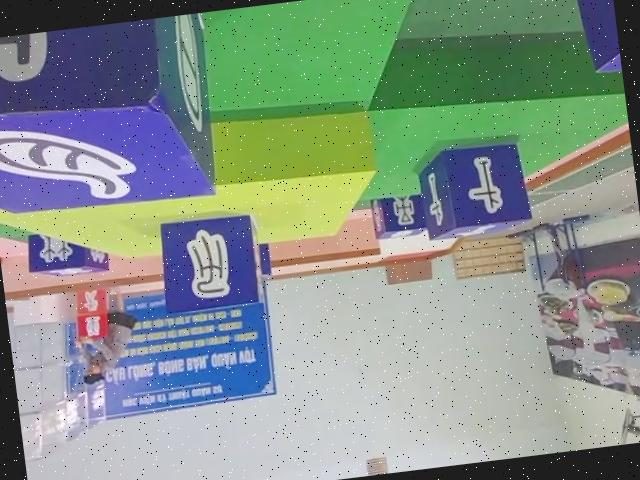R2 Fake Blue: (0, 13, 218, 226), (155, 208, 269, 317)
R2 Real Blue: (413, 137, 532, 242), (24, 224, 111, 281), (366, 190, 430, 240)
